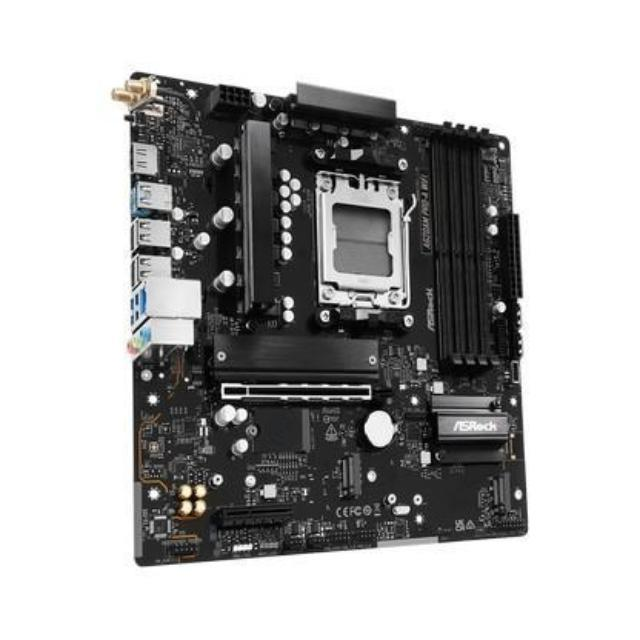Mainboard: (115, 67, 532, 573)
